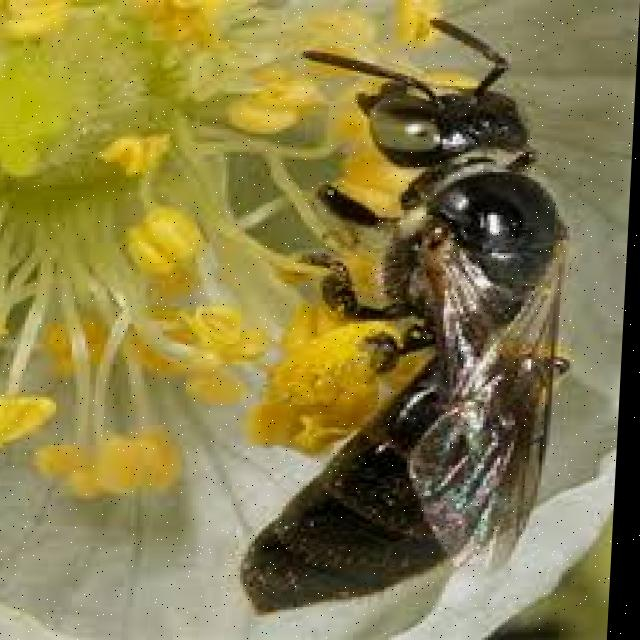Braunsapis: (212, 0, 604, 627)
